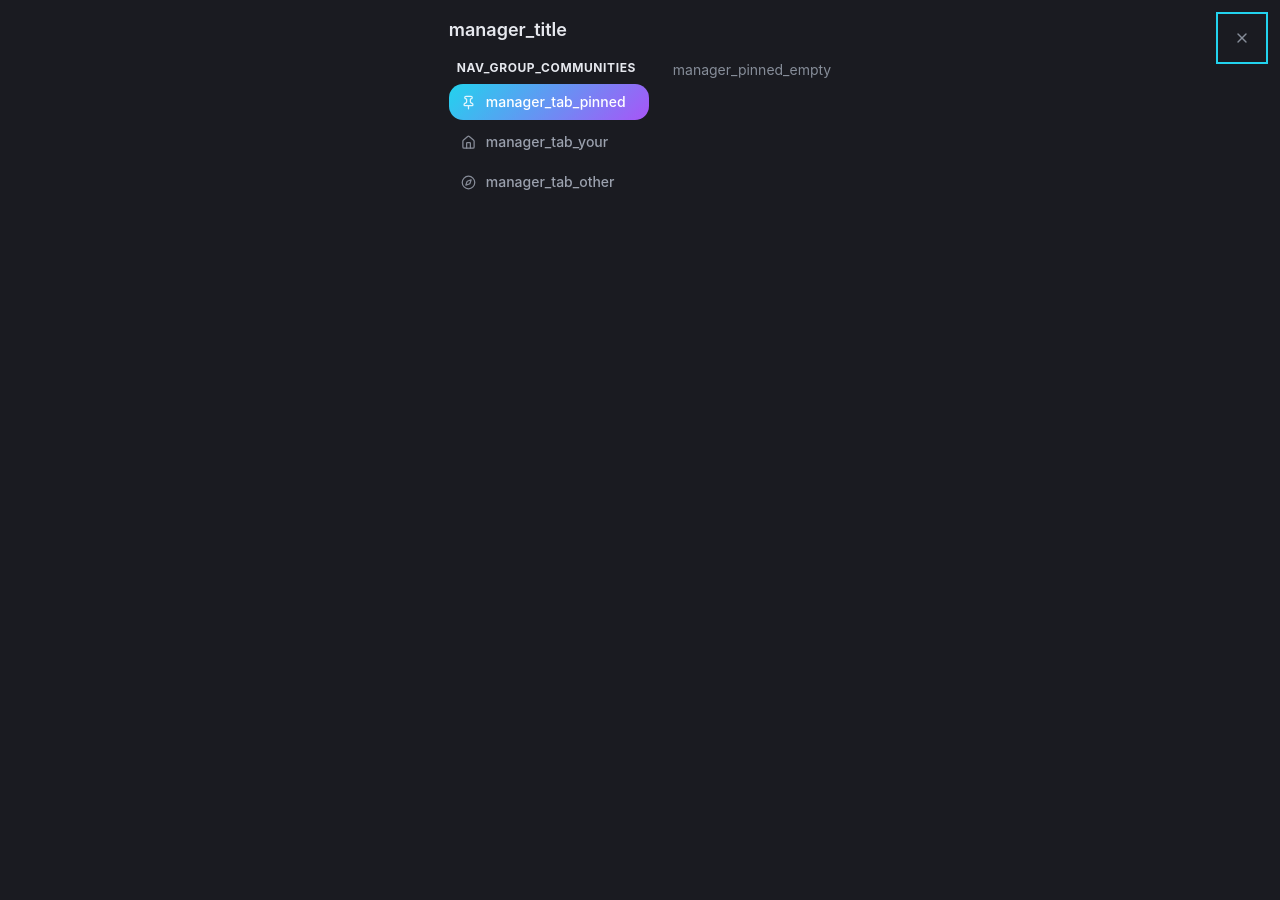
Test: CommunityManagerModal desktop variant › renders exactly the legacy single-server modal in web mode (no ConnectionsContext)
Click the button with test id "manager-tab-your".
click(549, 142)  # box top-left (449, 124), bottom-right (649, 160)
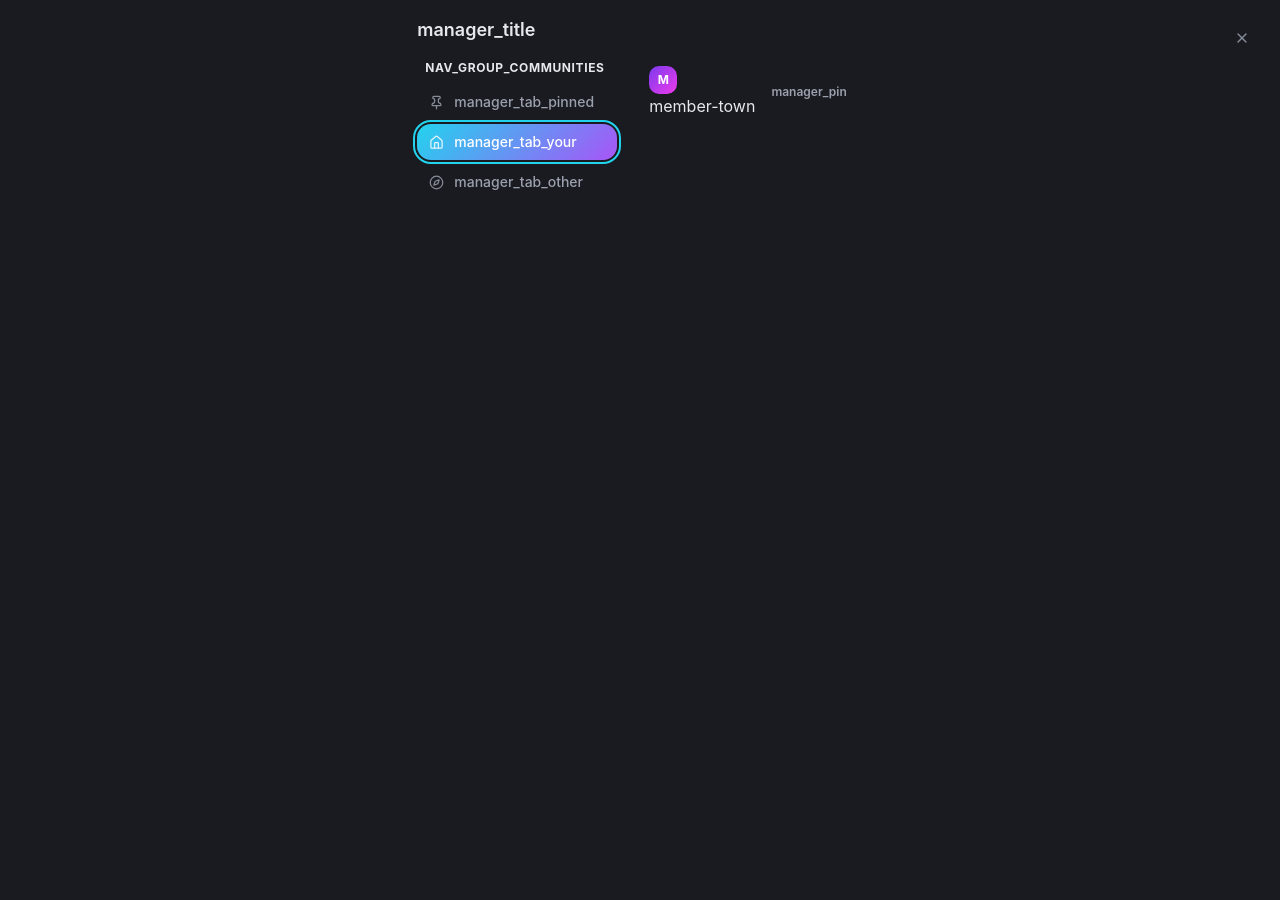
Expected: the text "member-town" is shown, top-left (649, 96), bottom-right (756, 116)
